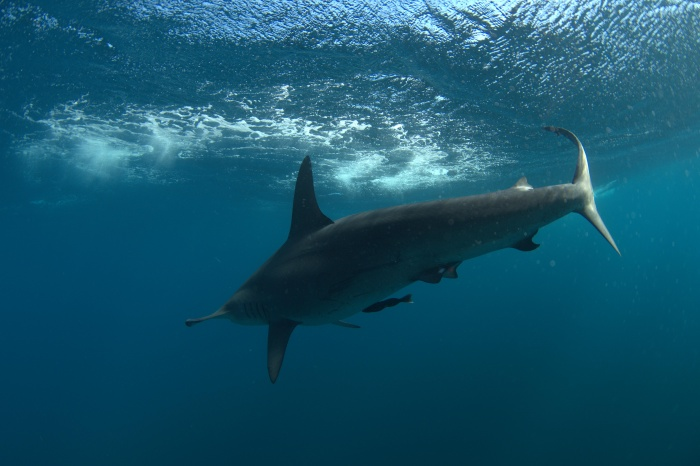Hammer: (132, 109, 655, 391)
